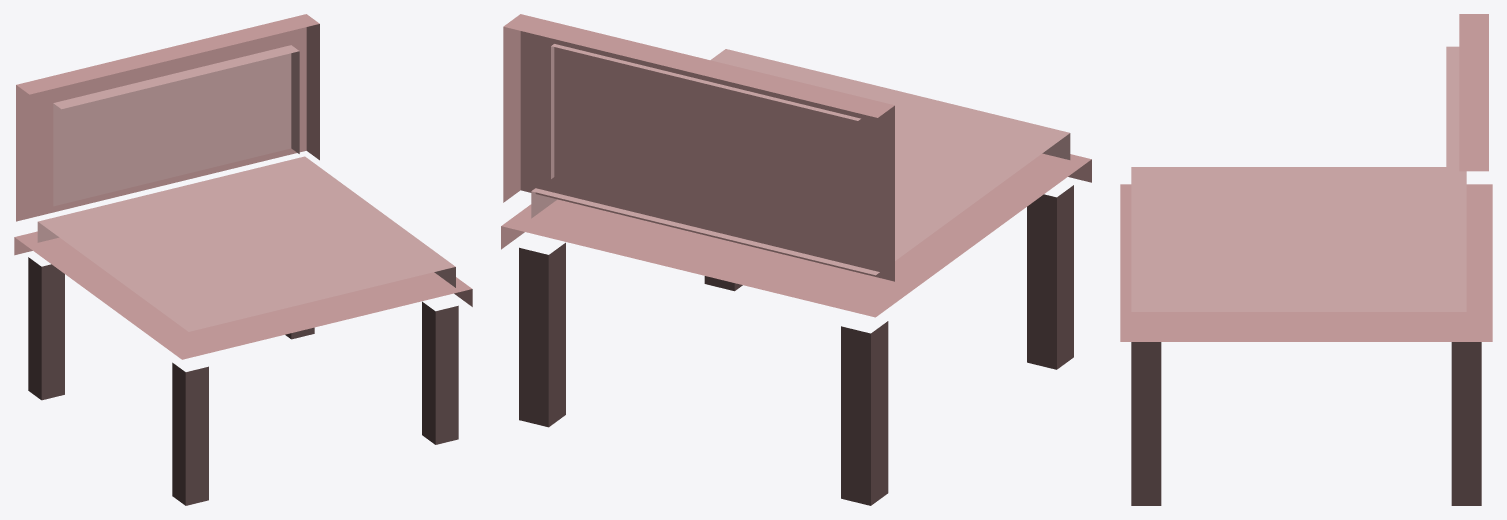
The model's file is Chair-pink.glb.
The picture shows the model from 3 angles, left to right: view 1: azimuth 30°, elevation 25°; view 2: azimuth 150°, elevation 25°; view 3: azimuth 270°, elevation 25°; orthographic projection. The views are drawn at different scales.
Visible parts, largest first — view 1: Chair; view 2: Chair; view 3: Chair.
Boxes of the visible parts, left/top/right/bottom form: Chair: left=14, top=14, right=472, bottom=505; Chair: left=501, top=14, right=1091, bottom=505; Chair: left=1120, top=14, right=1492, bottom=505.
Bounding box in the file's own units: 1 × 1 × 1.
